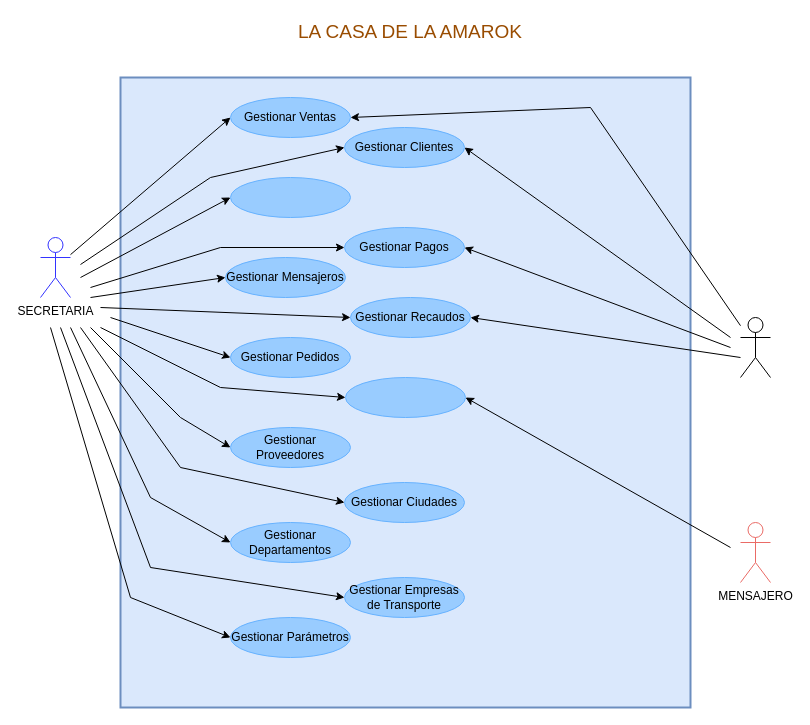
The diagram is 810 pixels wide and 725 high, and some of its shapes have lost their labels. Here are the shapes that lost their labels. From the top down, the box of each, then its label:
(230, 176, 350, 218): Gestionar Productos
(740, 316, 770, 378): CLIENTE
(344, 376, 466, 418): Gestionar Envíos
